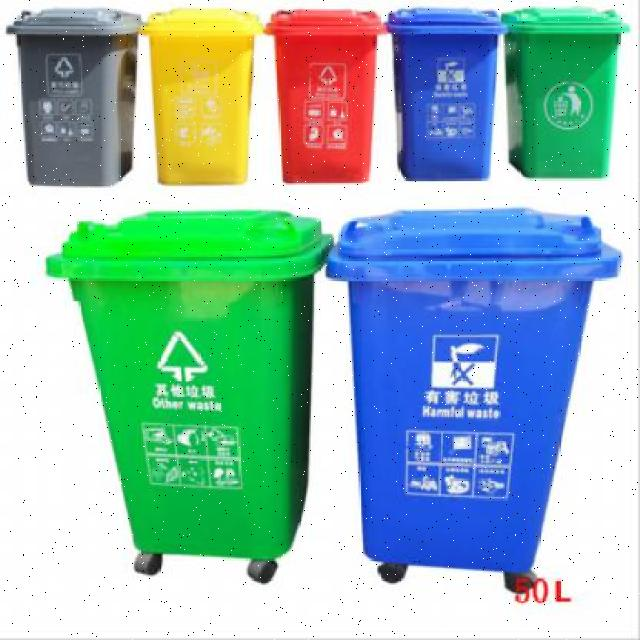garbage container: (318, 201, 630, 604), (47, 198, 328, 602), (498, 2, 633, 196), (2, 4, 140, 188), (381, 2, 505, 190), (139, 5, 264, 188), (263, 6, 389, 183)
